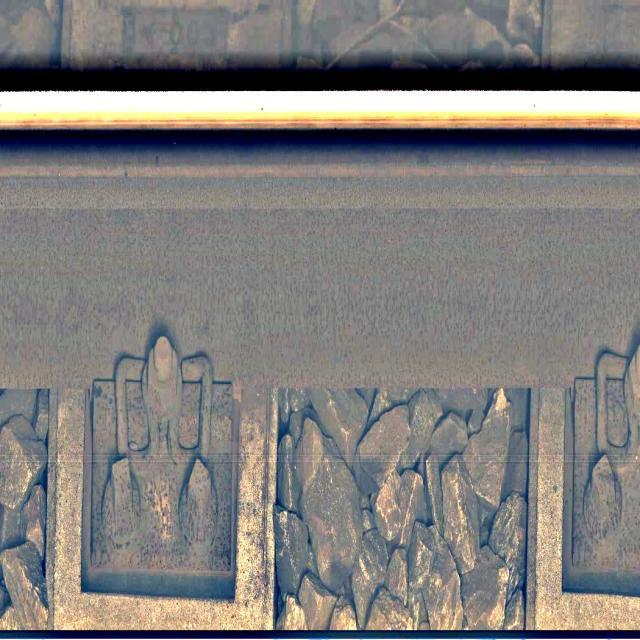Good Fasteners: (85, 335, 241, 596), (566, 345, 639, 594)
